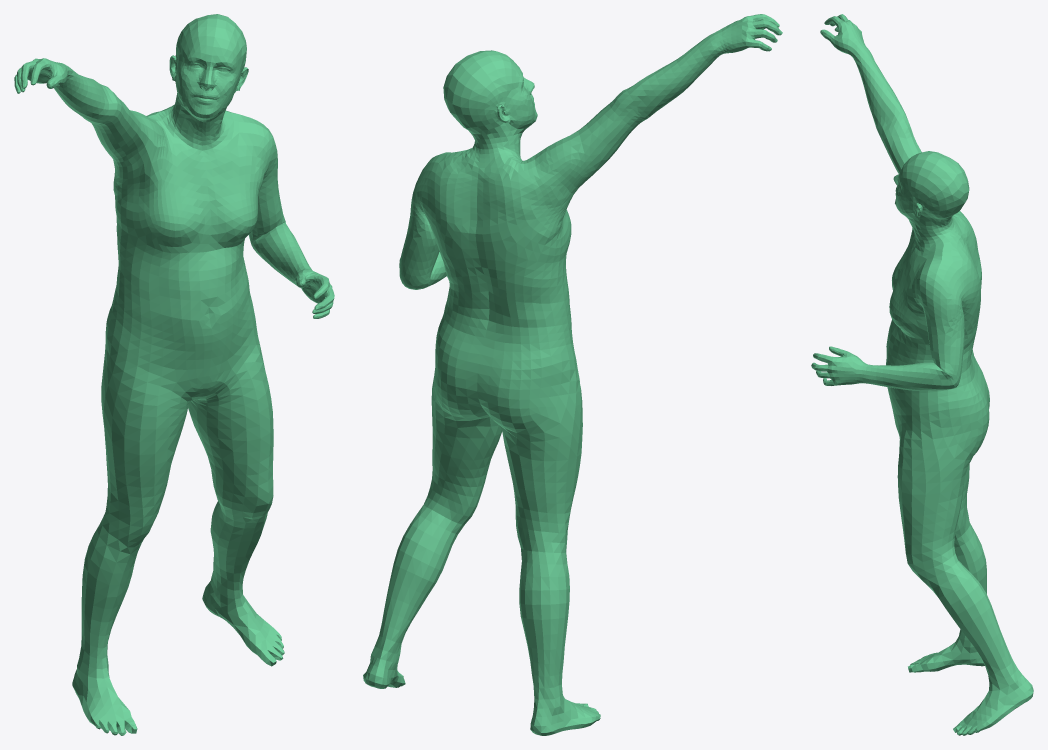
The model's file is hwc_free_07.glb.
3 renders of one model, left to right at view 1: azimuth 30°, elevation 25°; view 2: azimuth 150°, elevation 25°; view 3: azimuth 270°, elevation 25°, orthographic. The views are drawn at different scales.
Visible parts, largest first — view 1: hwc_free; view 2: hwc_free; view 3: hwc_free.
Boxes of the visible parts, left/top/right/bottom form: hwc_free: left=14, top=14, right=334, bottom=735; hwc_free: left=363, top=14, right=782, bottom=735; hwc_free: left=811, top=14, right=1033, bottom=735.
Bounding box in the file's own units: 0.9149 × 1.85 × 0.6223.
